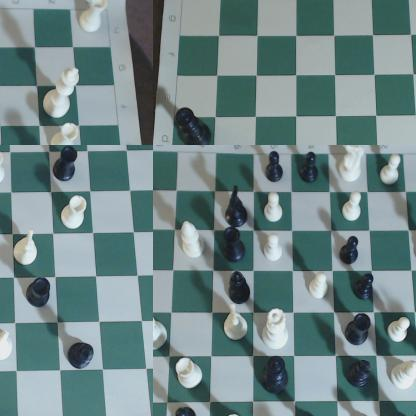black-bishop: (65, 340, 99, 374), (228, 270, 253, 309), (346, 362, 374, 394)
black-king: (173, 104, 214, 145), (264, 357, 291, 397)
black-knight: (223, 186, 248, 228)
black-pawn: (297, 151, 321, 190), (339, 237, 365, 271), (264, 151, 285, 186), (169, 404, 205, 416)
black-rook: (223, 226, 252, 266), (52, 146, 80, 186), (343, 313, 373, 349), (27, 278, 54, 314)
white-bishop: (177, 220, 210, 263), (388, 360, 416, 394)
white-king: (40, 68, 86, 120)
white-knight: (224, 301, 250, 346), (338, 146, 366, 185), (13, 232, 41, 268), (1, 327, 17, 364)
white-pawn: (378, 150, 408, 187), (342, 191, 367, 227), (263, 192, 290, 225), (387, 316, 415, 346), (260, 237, 283, 267), (307, 275, 329, 304)
white-queen: (261, 306, 291, 353), (154, 305, 171, 355)
white-rook: (59, 195, 94, 231), (80, 1, 110, 33), (176, 357, 203, 391), (50, 121, 81, 145), (1, 146, 8, 188)
